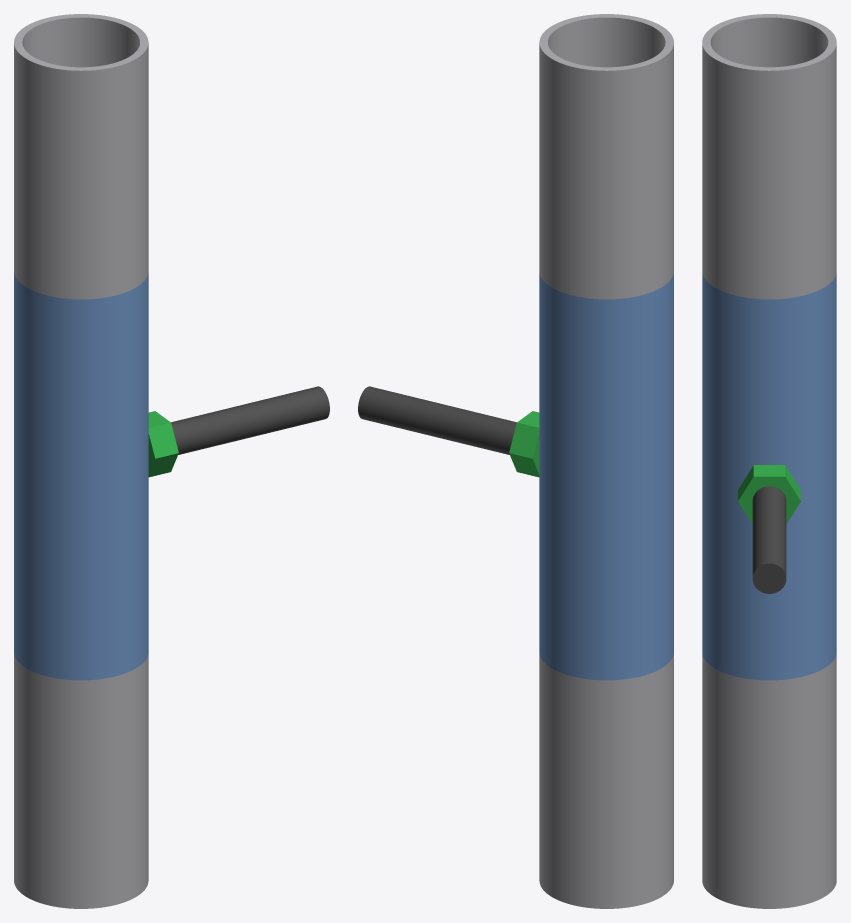
3 renders of one model, left to right at view 1: azimuth 30°, elevation 25°; view 2: azimuth 150°, elevation 25°; view 3: azimuth 270°, elevation 25°, orthographic.
Visible parts, largest first — view 1: joint_tube, pipe_a, pipe_b, m8_rod, lock_nut; view 2: joint_tube, pipe_a, pipe_b, m8_rod, lock_nut; view 3: joint_tube, pipe_a, pipe_b, m8_rod, lock_nut.
Part boxes in pixels (left/top/right/bottom): joint_tube: left=14, top=272, right=148, bottom=680; pipe_a: left=14, top=14, right=148, bottom=299; pipe_b: left=14, top=653, right=148, bottom=908; m8_rod: left=171, top=386, right=329, bottom=454; lock_nut: left=148, top=411, right=178, bottom=477; joint_tube: left=539, top=272, right=673, bottom=680; pipe_a: left=539, top=14, right=673, bottom=299; pipe_b: left=539, top=653, right=673, bottom=908; m8_rod: left=358, top=386, right=516, bottom=454; lock_nut: left=509, top=411, right=539, bottom=477; joint_tube: left=702, top=273, right=836, bottom=680; pipe_a: left=702, top=14, right=836, bottom=299; pipe_b: left=702, top=654, right=836, bottom=908; m8_rod: left=752, top=486, right=786, bottom=593; lock_nut: left=738, top=465, right=800, bottom=523.
Bounding box in the file's own units: 82 × 220 × 31.99.
